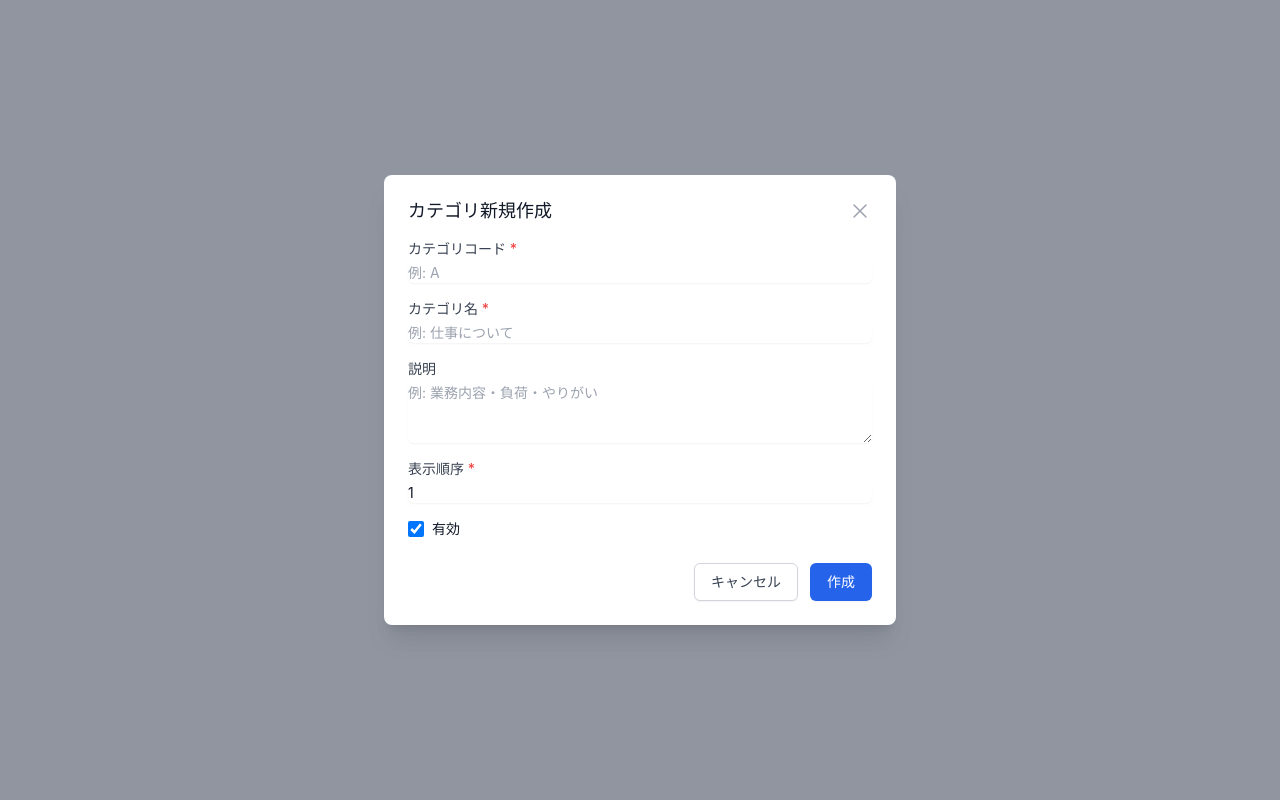
CategoryFormModal › バリデーション › カテゴリコードに特殊文字が含まれる場合、エラーメッセージを表示する
The width and height of the screenshot is (1280, 800).
In the field labelled "カテゴリコード *": [640, 273] box left=408, top=263, right=872, bottom=283, type "A@#"
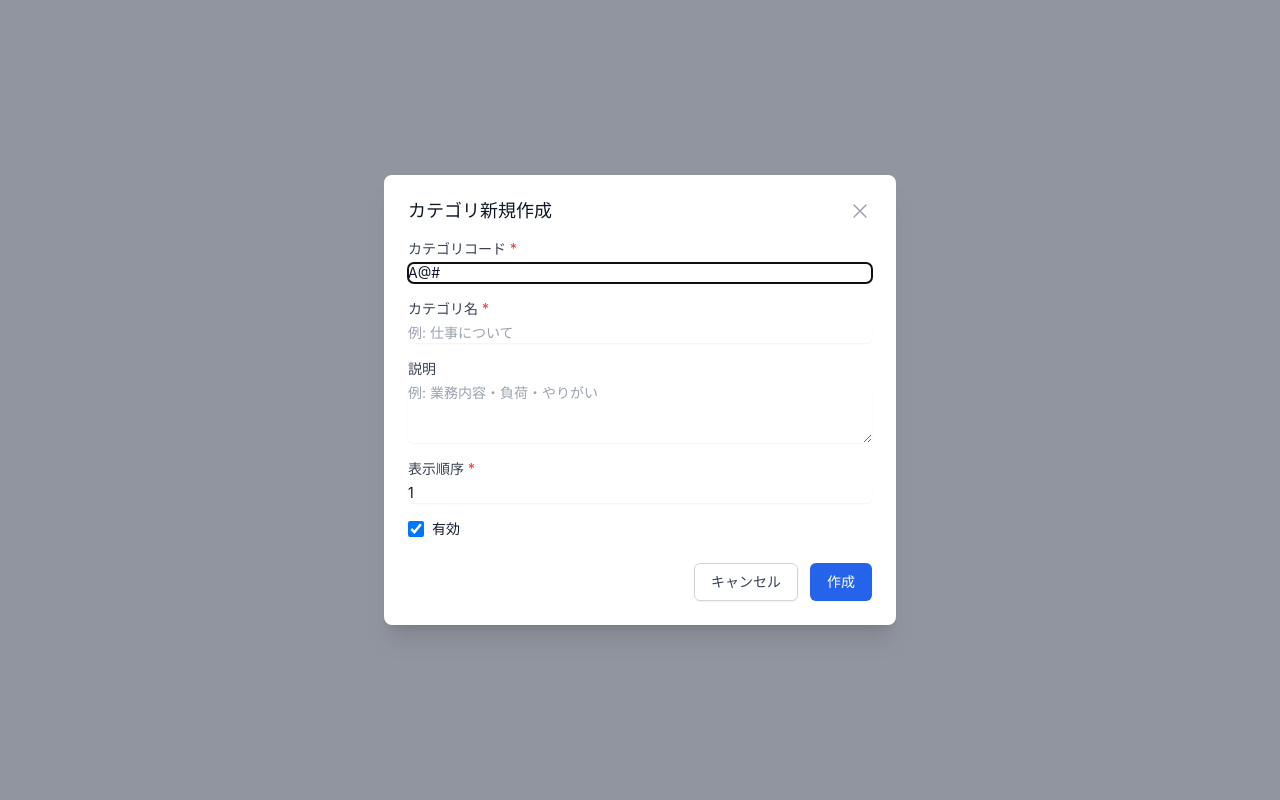
Click the button "作成": [841, 582] box left=810, top=563, right=872, bottom=601
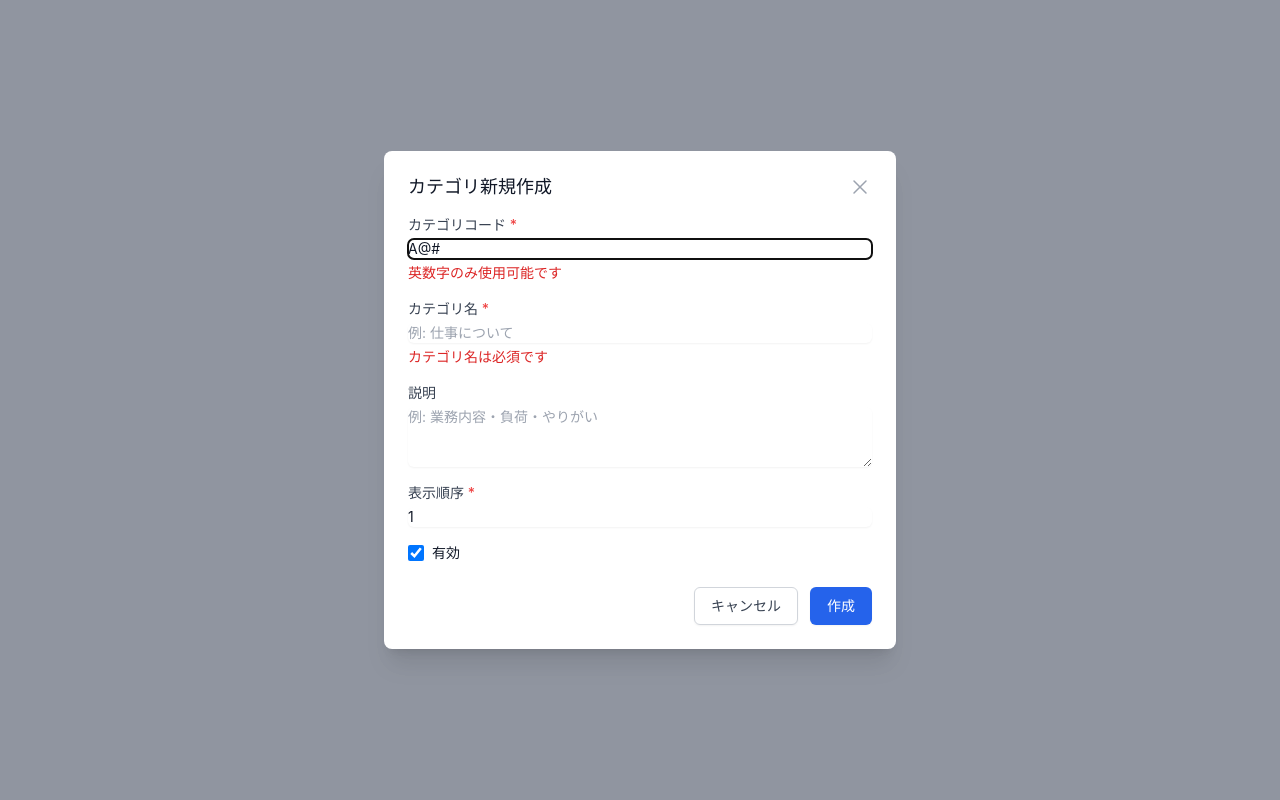
Result: the text "英数字のみ使用可能です" is shown at left=408, top=264, right=562, bottom=281
